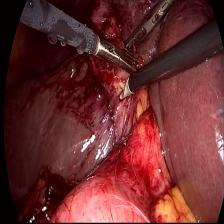Grasper: (119, 1, 175, 55), (91, 33, 142, 73)
Hook: (114, 77, 135, 108)
